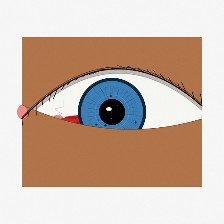hemorrhage_spot: (45, 89, 130, 157)
